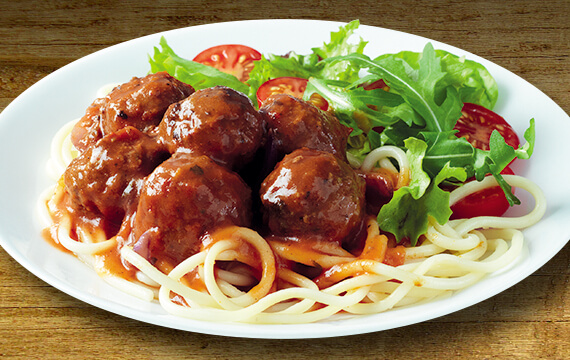chopped lettuce: (330, 43, 460, 175)
meatballs: (142, 158, 238, 250), (257, 155, 358, 234), (70, 132, 150, 217), (169, 88, 258, 152), (261, 92, 334, 156), (110, 74, 178, 136)
plain spaghetti: (187, 231, 515, 326)
